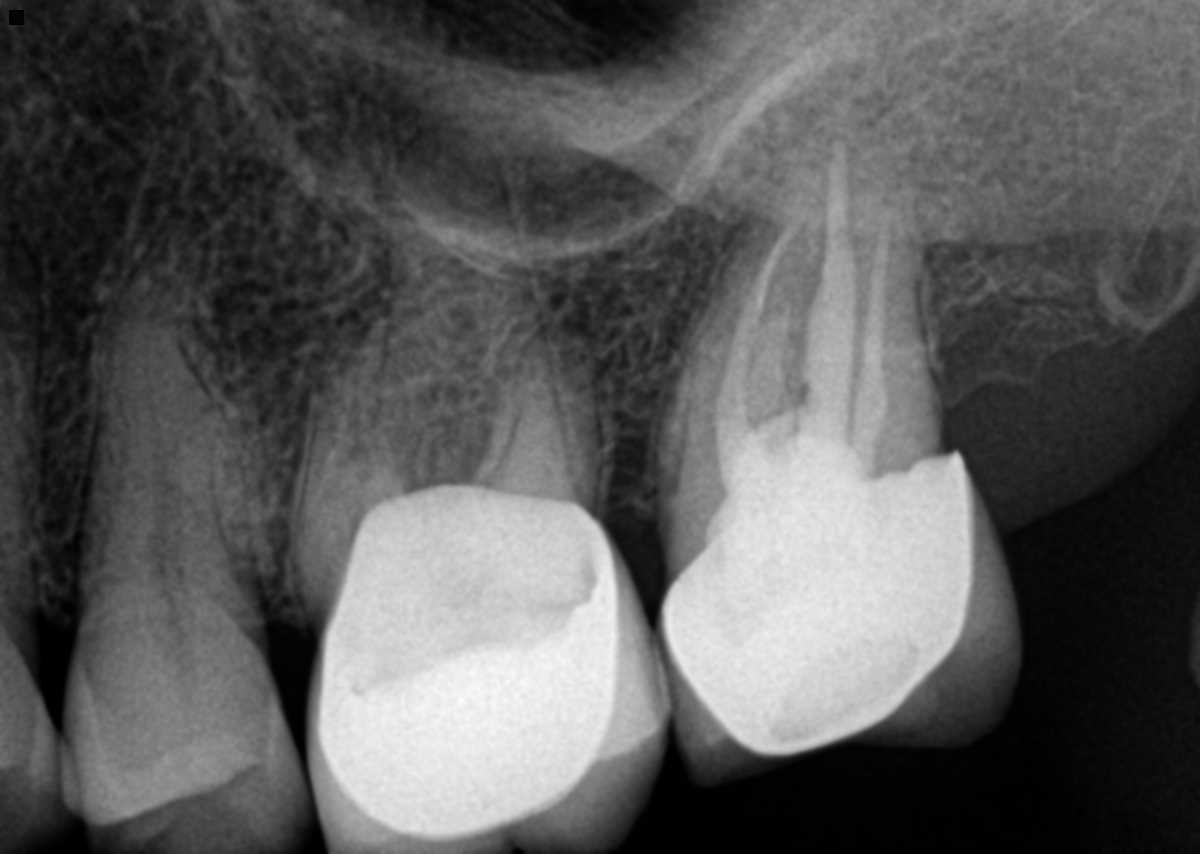Distal Root: (817, 205, 943, 438), (487, 324, 603, 509)
Main Canal: (150, 288, 190, 618)
Main Root: (88, 263, 246, 624), (0, 228, 42, 597)
Mesial Root: (656, 192, 828, 493), (290, 365, 413, 597)
Palatal Root: (360, 126, 579, 518), (744, 124, 949, 516)
Root Canal Filling: (715, 215, 806, 467), (800, 137, 859, 438), (850, 224, 891, 474)
